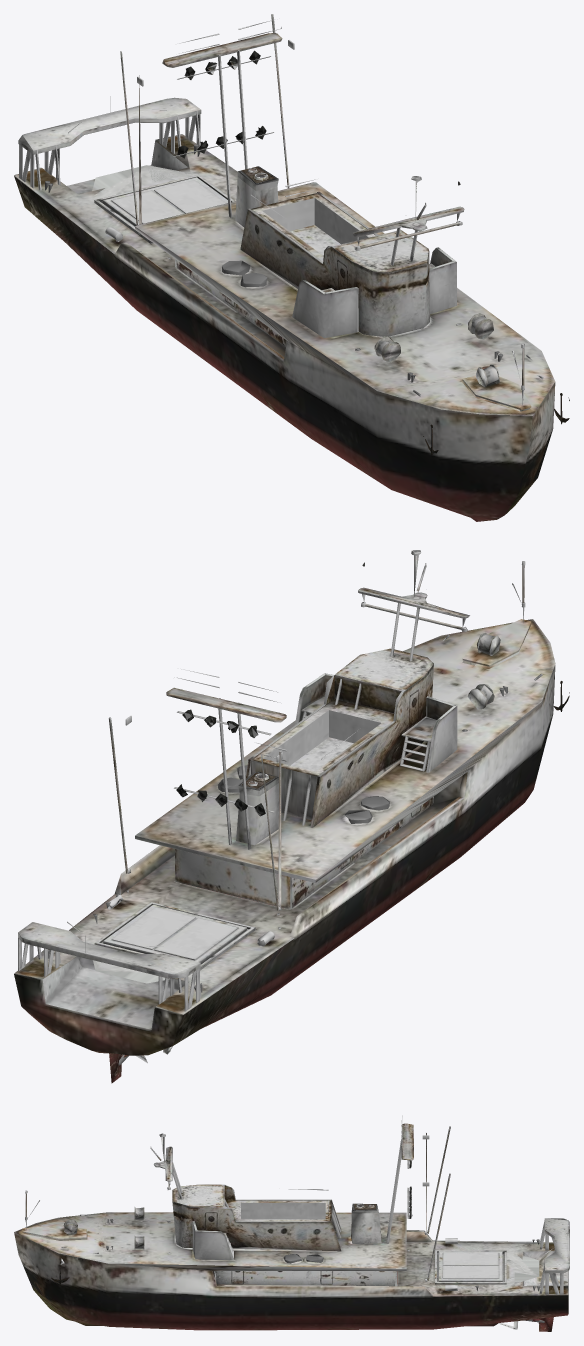
Rendered from trawler-big.glow-v1.lod0.glb.
The picture shows the model from 3 angles, top to bottom: view 1: azimuth 30°, elevation 25°; view 2: azimuth 150°, elevation 25°; view 3: azimuth 270°, elevation 25°; orthographic projection. The views are drawn at different scales.
Visible parts, largest first — view 1: Fan_1_Default_0; view 2: Fan_1_Default_0; view 3: Fan_1_Default_0.
Part boxes in pixels (x1,y1,x2,y2): Fan_1_Default_0: [14, 14, 569, 521]; Fan_1_Default_0: [14, 550, 569, 1083]; Fan_1_Default_0: [14, 1115, 569, 1331].
Size of the model in its own units: 6.23 by 10.48 by 25.99.
1 material, 1 textured.
